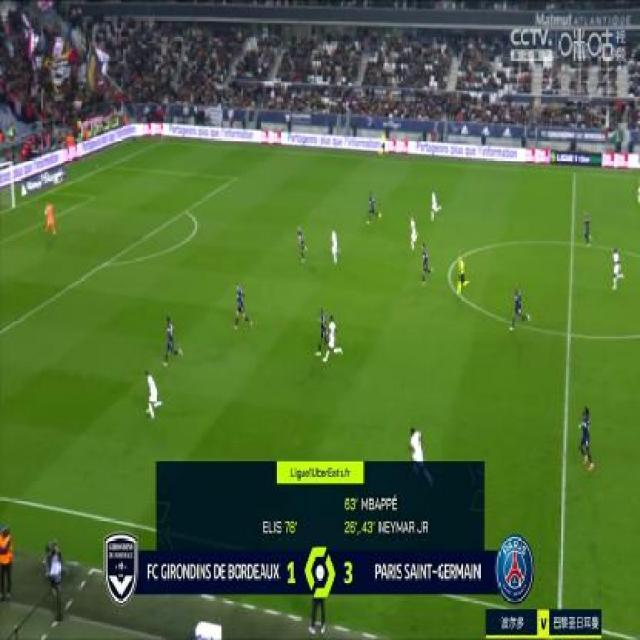player: (137, 364, 170, 421), (573, 401, 597, 474), (159, 313, 187, 370), (233, 278, 262, 331), (324, 316, 348, 377), (506, 279, 531, 335), (413, 240, 438, 294), (605, 241, 627, 299), (293, 218, 316, 273), (364, 186, 387, 234), (425, 186, 450, 229), (576, 203, 598, 248), (327, 223, 348, 267), (406, 422, 426, 463), (314, 304, 330, 348), (405, 213, 421, 253)
referee: (452, 250, 470, 303)
